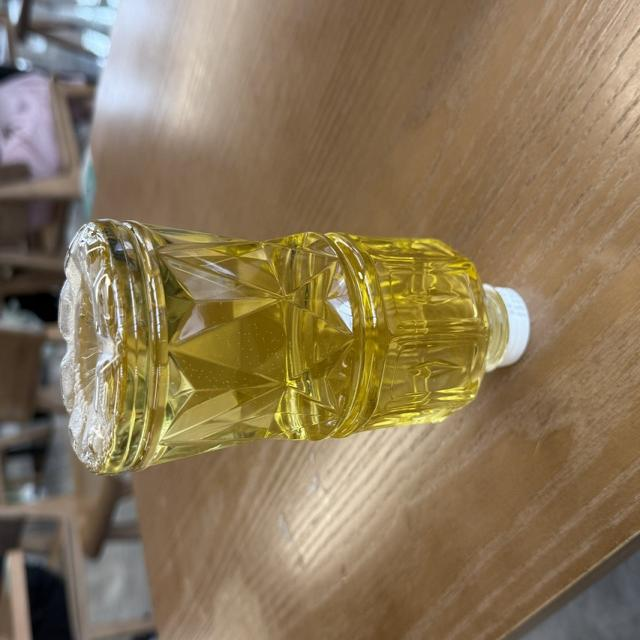high: (59, 220, 530, 473)
